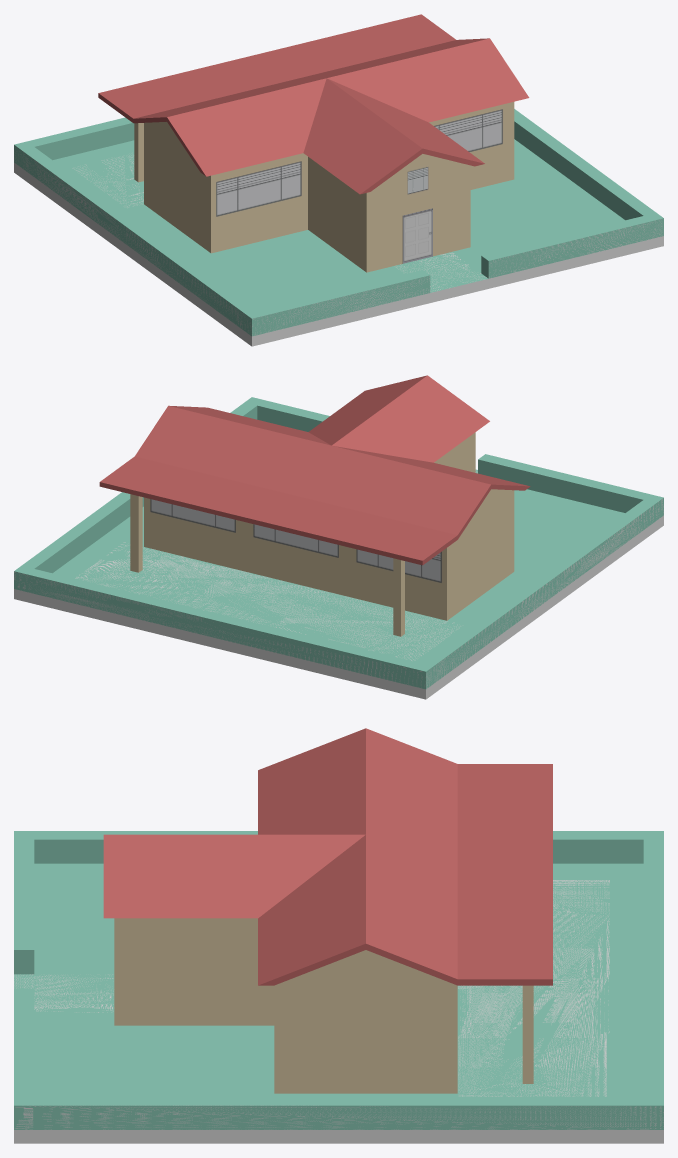
File: buildings_11.dae
3 views of the same model, one above another, from view 1: azimuth 30°, elevation 25°; view 2: azimuth 150°, elevation 25°; view 3: azimuth 270°, elevation 25° (orthographic). The views are drawn at different scales.
Visible parts, largest first — view 1: group_0 (×12); view 2: group_0 (×9); view 3: group_0 (×8).
Part boxes in pixels (bbox=[...]): group_0 (×12): bbox=[14, 14, 663, 346]; group_0 (×9): bbox=[14, 375, 663, 699]; group_0 (×8): bbox=[14, 728, 663, 1143].
Bounding box in the file's own units: 134 × 134 × 38.64.
10 materials, 9 textured.
